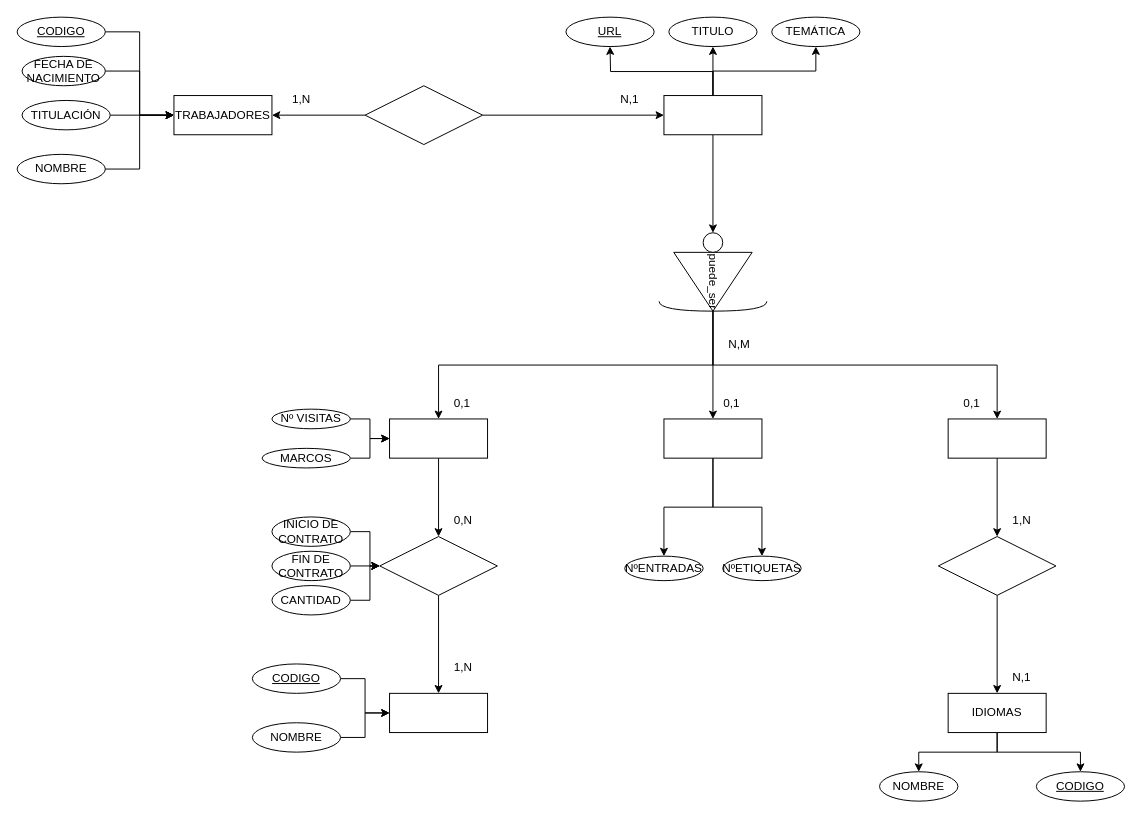
Some shapes in this 1142 by 818 pixel diagram are drawn without their labels. The shapes that lost their labels are listed below. From the top down, each one's centre as x and y in pixels, then its label:
At point 423,115: "CREA".
At point 712,115: "PÁGINA WEB".
At point 438,438: "CONVENCIONAL".
At point 712,438: "BLOG".
At point 996,438: "WIKI".
At point 438,565: "TIENE".
At point 996,565: "ACEPTA".
At point 438,712: "EMPRESAS PUBLICIDAD".
